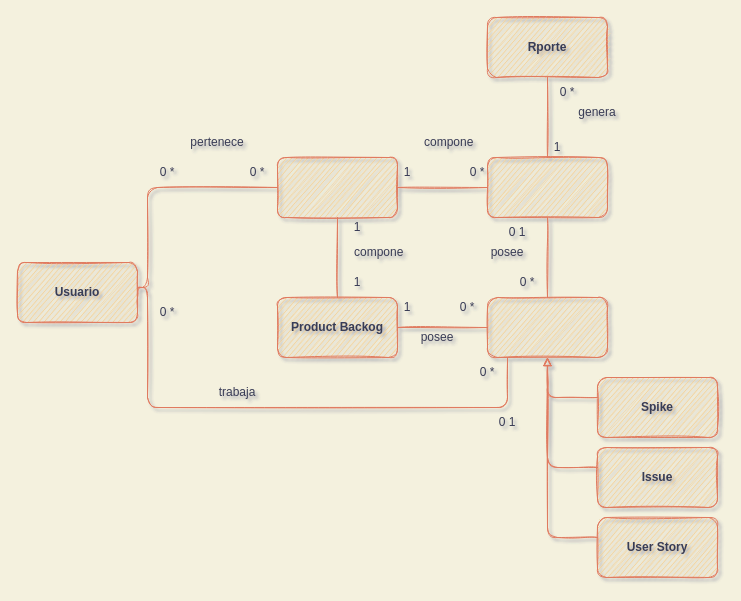
The diagram is 741 pixels wide and 601 high, and some of its shapes have lost their labels. Here are the shapes that lost their labels. From the top down, the centre of each, then its label:
At point 337,187: "Proyecto".
At point 547,187: "Sprint Backlog".
At point 547,327: "ScrumItem".
